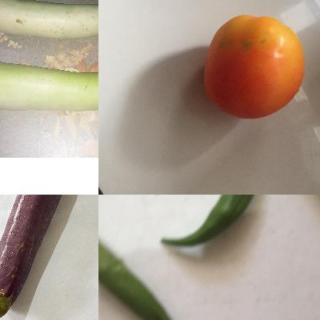Tomat: (200, 14, 310, 125)
